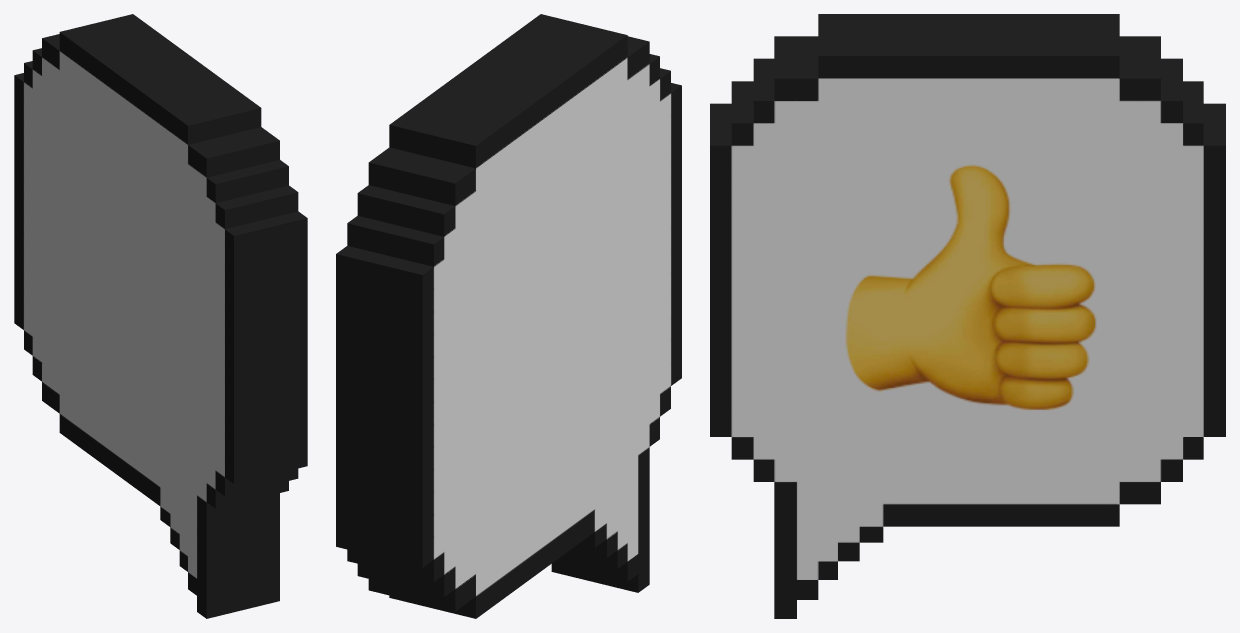
Rendered from thumbup_speech.glb.
3 views of the same model, side by side, from view 1: azimuth 30°, elevation 25°; view 2: azimuth 150°, elevation 25°; view 3: azimuth 270°, elevation 25° (orthographic). The views are drawn at different scales.
Parts seen in each view (by area): view 1: Pixel_Speech_Bubbles_v4_001; view 2: Pixel_Speech_Bubbles_v4_001; view 3: Pixel_Speech_Bubbles_v4_001.
Part boxes in pixels (x1,y1,x2,y2): Pixel_Speech_Bubbles_v4_001: [14, 14, 307, 618]; Pixel_Speech_Bubbles_v4_001: [336, 14, 681, 618]; Pixel_Speech_Bubbles_v4_001: [710, 14, 1225, 618].
Size of the model in its own units: 0.00854 by 0.0532 by 0.0442.
1 material, 1 textured.
